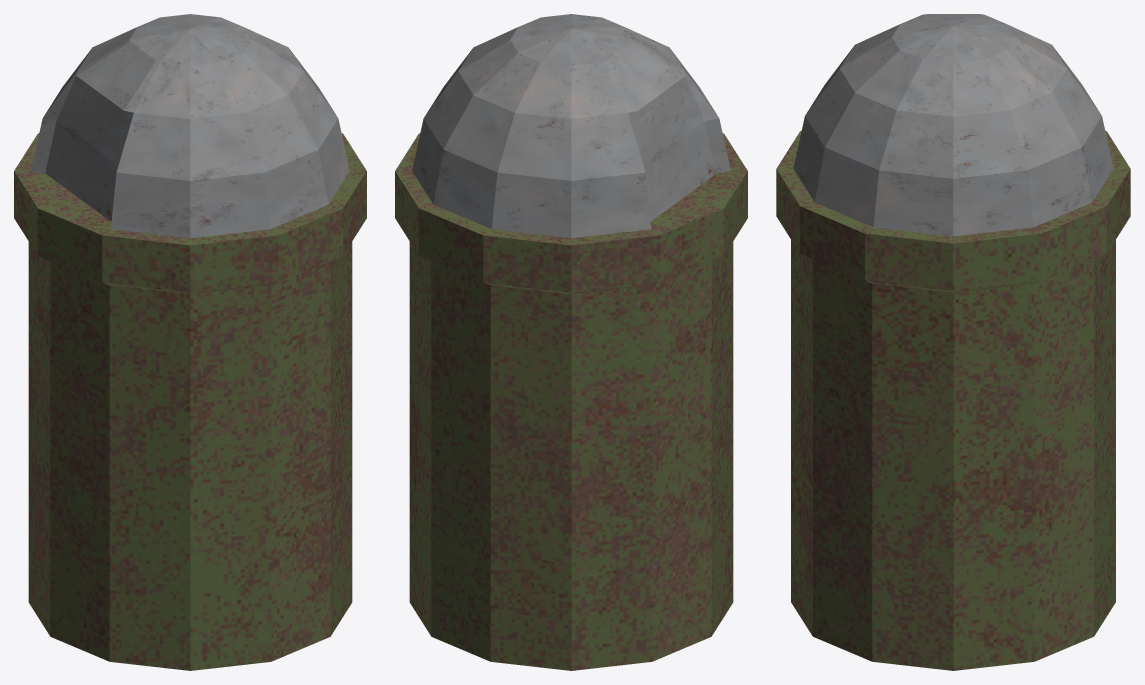
Rendered from trash_can_public.gltf.
3 views of the same model, side by side, from view 1: azimuth 30°, elevation 25°; view 2: azimuth 150°, elevation 25°; view 3: azimuth 270°, elevation 25° (orthographic).
Parts seen in each view (by area): view 1: Cylinder-col, Sphere; view 2: Cylinder-col, Sphere; view 3: Cylinder-col, Sphere.
Part boxes in pixels (box(x1,y1,x2,y2)): Cylinder-col: box(14, 133, 366, 670); Sphere: box(31, 14, 349, 238); Cylinder-col: box(395, 133, 747, 670); Sphere: box(412, 14, 730, 238); Cylinder-col: box(776, 131, 1130, 670); Sphere: box(793, 14, 1113, 236).
Size of the model in its own units: 1.98 by 3.56 by 1.98.
2 materials, 2 textured.
